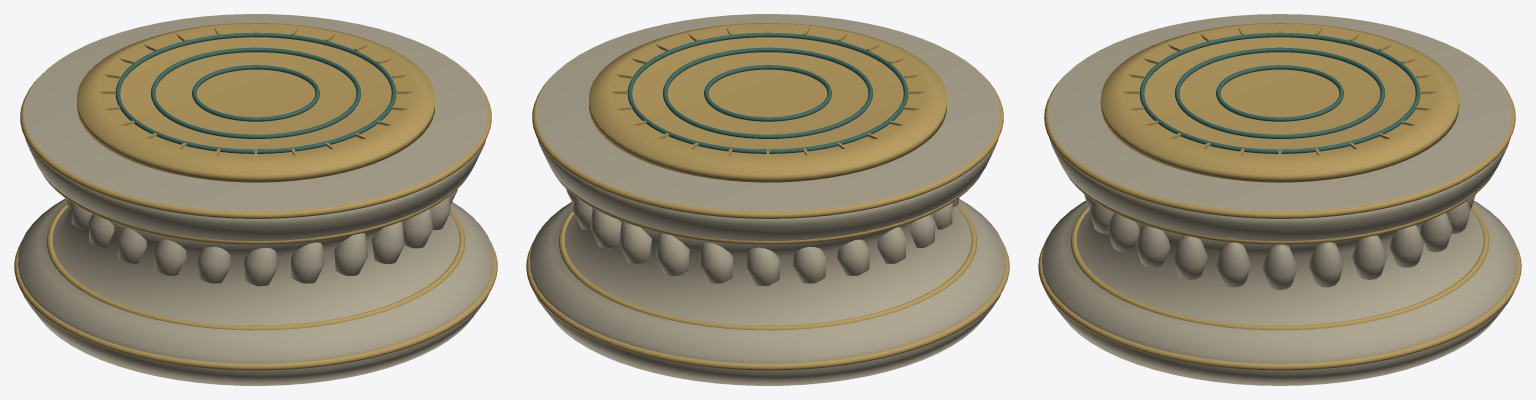
File: lotus_altar.glb
The picture shows the model from 3 angles, left to right: view 1: azimuth 30°, elevation 25°; view 2: azimuth 150°, elevation 25°; view 3: azimuth 270°, elevation 25°; orthographic projection.
Parts seen in each view (by area): view 1: lotus_altar; view 2: lotus_altar; view 3: lotus_altar.
Part boxes in pixels (<box>): lotus_altar: <box>14,14,497,385</box>; lotus_altar: <box>526,14,1009,385</box>; lotus_altar: <box>1038,14,1521,385</box>.
Bounding box in the file's own units: 1.65 × 0.75 × 1.65.
